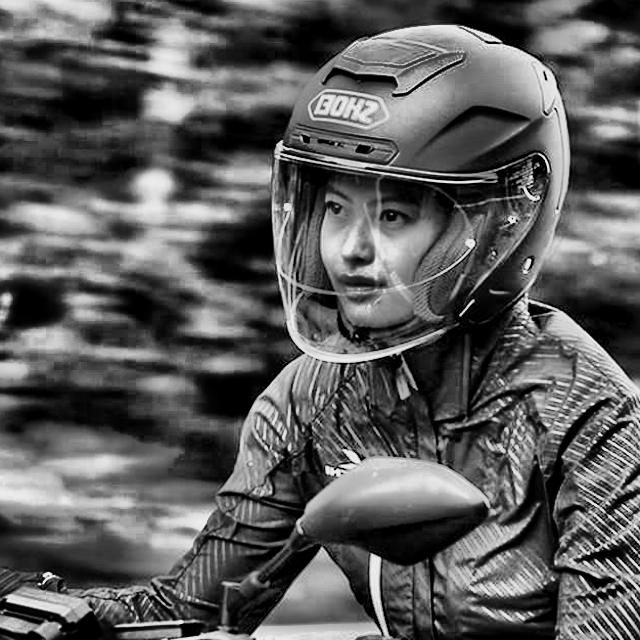Helmet: (266, 16, 583, 376)
